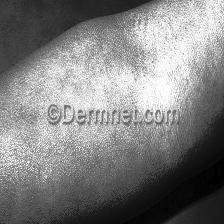Benign Marking or Mole: (51, 140, 164, 194), (0, 148, 16, 223)
